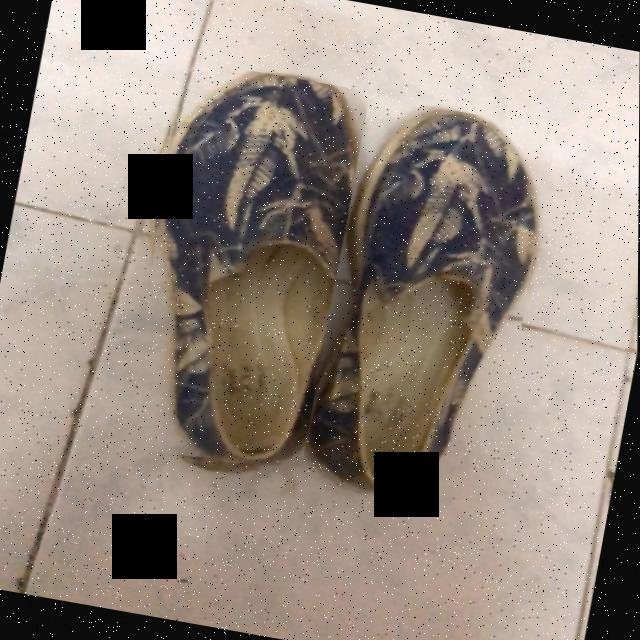shoe: (159, 74, 355, 464), (346, 107, 539, 483)
